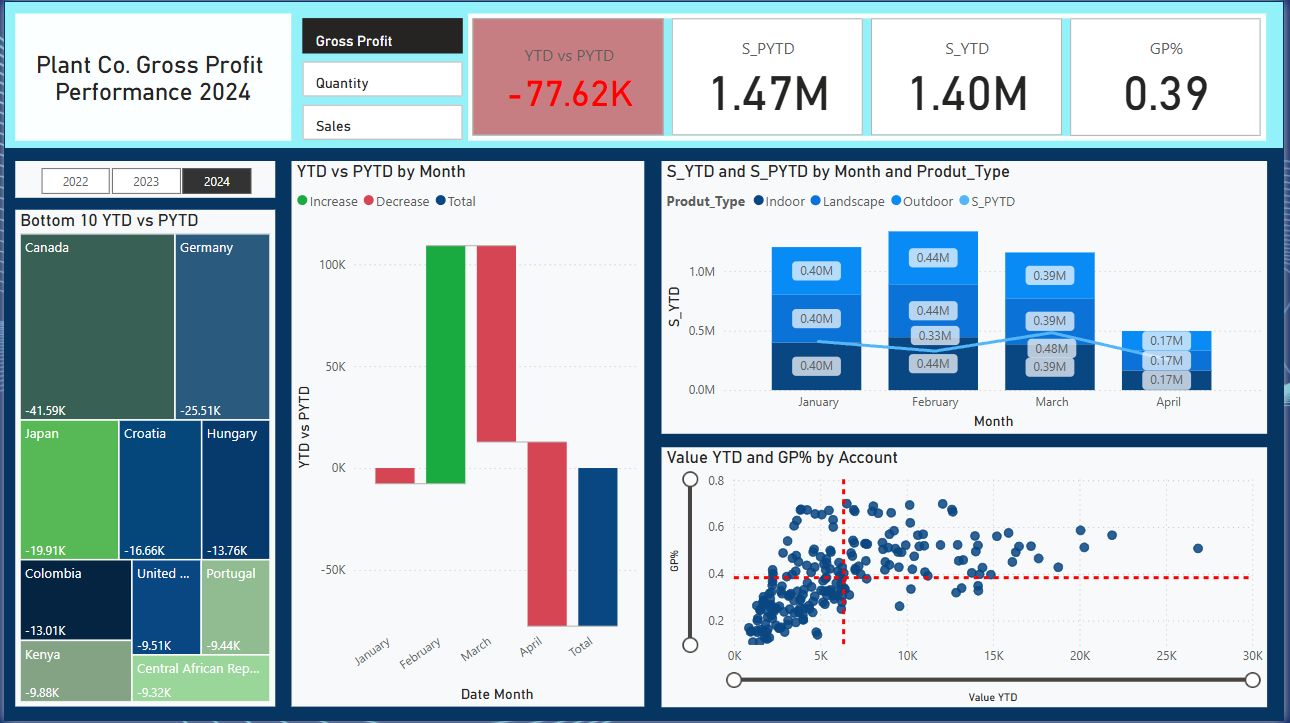

The dashboard page shown, as its layout file describes it:
{"tool":"powerbi","page":{"name":"Page 1","canvas":[1280,720],"ordinal":0},"visuals":[{"type":"shape","box":[0,0,1280,148.3],"z":0},{"type":"cardVisual","fields":{"Data":["_Measures.S_PYTD","_Measures.S_YTD","_Measures.YTD vs PYTD","_Measures.GP%"]},"box":[464.3,12.9,798.6,127.1],"z":1000},{"type":"advancedSlicerVisual","fields":{"Values":["Slc_Values.Values"]},"box":[294.3,12.9,170,131.4],"z":2000},{"type":"slicer","fields":{"Values":["Dim_Date.Date.Variation.Date Hierarchy.Year"]},"box":[11.4,160,260,37.1],"z":3000},{"type":"treemap","title":"Bottom 10 YTD vs PYTD ","fields":{"Values":["_Measures.YTD vs PYTD"],"Group":["Dim_Account.country"]},"box":[11.4,208.6,260,497.1],"z":4000},{"type":"waterfallChart","fields":{"Y":["_Measures.YTD vs PYTD"],"Category":["Dim_Date.Date.Variation.Date Hierarchy.Month","Dim_Account.country"]},"box":[287.1,160,352.9,545.7],"z":5000},{"type":"lineStackedColumnComboChart","fields":{"Y":["_Measures.S_YTD"],"Y2":["_Measures.S_PYTD"],"Category":["Dim_Date.Date.Variation.Date Hierarchy.Quarter","Dim_Date.Date.Variation.Date Hierarchy.Month"],"Series":["Dim_Product.Produt_Type"]},"box":[657.1,160,605.7,272.9],"z":6000},{"type":"scatterChart","fields":{"Y":["_Measures.GP%"],"X":["_Measures.S_YTD"],"Category":["Dim_Account.Account"]},"box":[657.1,445.7,605.7,260],"z":7000},{"type":"card","fields":{"Values":["_Measures._Report Title"]},"box":[11.4,12.9,275.7,127.1],"z":8001}]}

Visuals, with their boxes in screenshot pixels (x1, y1, x2, y2), scaled from the page's 1280x720 canvas onto the 1290x723 screenshot:
shape: (left=0, top=0, right=1289, bottom=149)
cardVisual - _Measures.S_PYTD x _Measures.S_YTD: (left=468, top=13, right=1273, bottom=141)
advancedSlicerVisual - Slc_Values.Values: (left=297, top=13, right=468, bottom=145)
slicer - Dim_Date.Date.Variation.Date Hierarchy.Year: (left=11, top=161, right=274, bottom=198)
"Bottom 10 YTD vs PYTD " treemap: (left=11, top=209, right=274, bottom=709)
waterfallChart - _Measures.YTD vs PYTD x Dim_Date.Date.Variation.Date Hierarchy.Month: (left=289, top=161, right=645, bottom=709)
lineStackedColumnComboChart - _Measures.S_YTD x _Measures.S_PYTD: (left=662, top=161, right=1273, bottom=435)
scatterChart - _Measures.GP% x _Measures.S_YTD: (left=662, top=448, right=1273, bottom=709)
card - _Measures._Report Title: (left=11, top=13, right=289, bottom=141)
